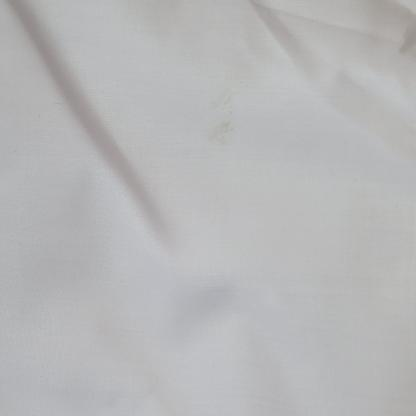spot: (204, 87, 241, 145)
